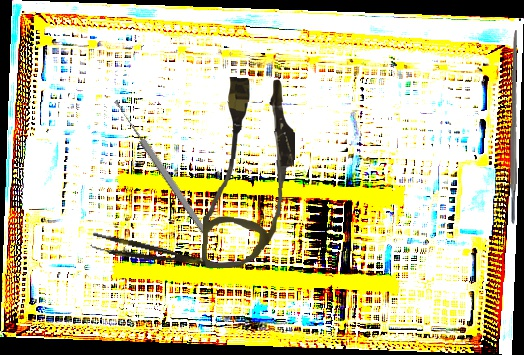Cannula: (201, 76, 298, 271)
Scalpel Handle: (507, 29, 520, 225)
Surgical Spoon: (112, 98, 209, 235)
Tissue Forceps: (89, 231, 213, 277)
